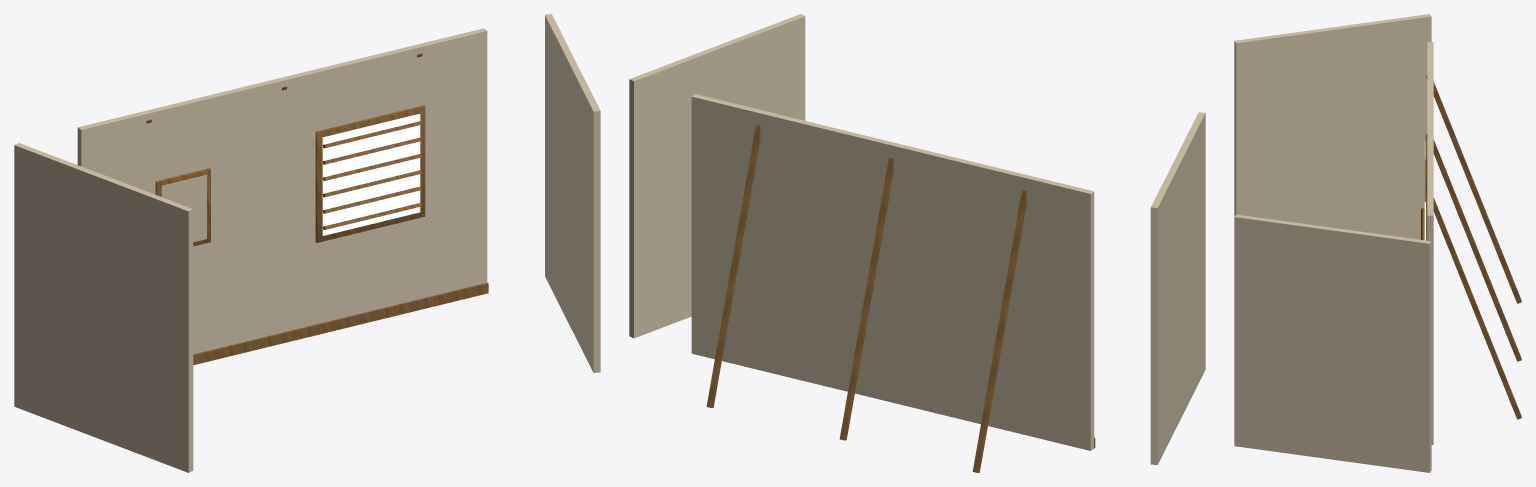
File: cenario-de-tres-paredes.glb
3 views of the same model, side by side, from view 1: azimuth 30°, elevation 25°; view 2: azimuth 150°, elevation 25°; view 3: azimuth 270°, elevation 25° (orthographic). The views are drawn at different scales.
Visible parts, largest first — view 1: fundo, lateral, lateral.001, luz-da-janela, rodape, janela, tela-do-quadro, quadro; view 2: fundo, lateral.001, lateral, escora.002, escora, escora.001; view 3: lateral.001, lateral, fundo, escora, escora.001, escora.002.
Part boxes in pixels (x1,y1,x2,y2): fundo: (77,28,487,354); lateral: (14,143,193,472); lateral.001: (545,14,600,372); luz-da-janela: (322,114,420,235); rodape: (193,282,488,365); janela: (315,105,425,242); tela-do-quadro: (161,175,206,242); quadro: (155,168,210,246); fundo: (691,94,1094,450); lateral.001: (629,14,805,338); lateral: (1150,112,1205,464); escora.002: (706,125,760,407); escora: (972,190,1026,472); escora.001: (839,158,893,440); lateral.001: (1234,214,1431,472); lateral: (1234,14,1431,239); fundo: (1427,42,1433,444); escora: (1426,76,1521,303); escora.001: (1426,133,1521,361); escora.002: (1426,191,1521,419).
Size of the model in its own units: 6.88 by 3.24 by 3.64.
Materials: 3 (1 with a texture image).
